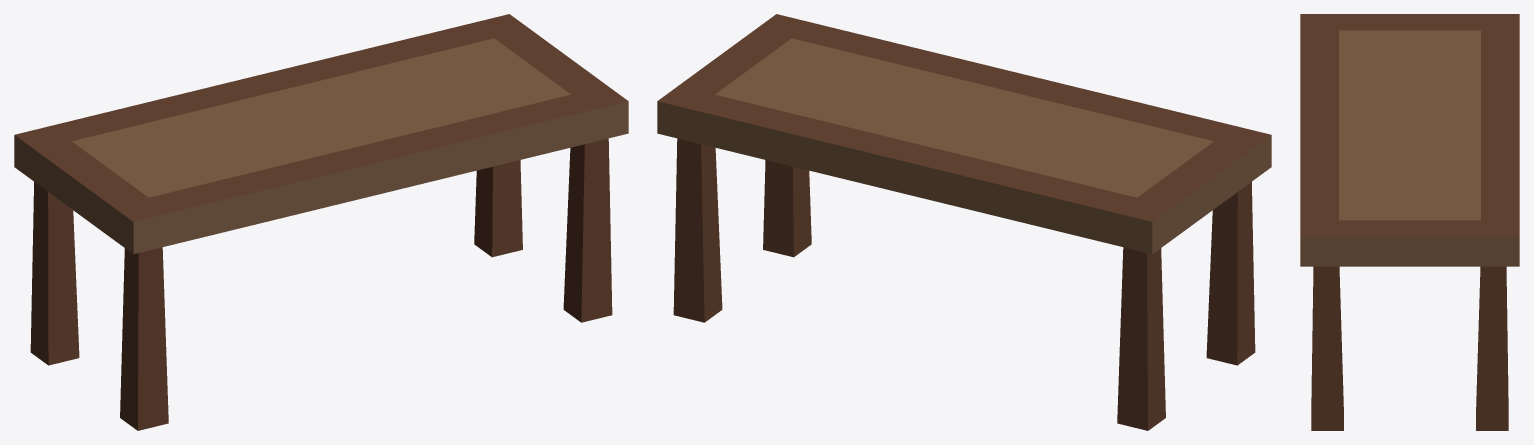
The model's file is Table.fbx.
The picture shows the model from 3 angles, left to right: view 1: azimuth 30°, elevation 25°; view 2: azimuth 150°, elevation 25°; view 3: azimuth 270°, elevation 25°; orthographic projection. The views are drawn at different scales.
Parts seen in each view (by area): view 1: Cube; view 2: Cube; view 3: Cube.
Boxes of the visible parts, x1,y1,x2,y2 form: Cube: (14,14,628,430); Cube: (657,14,1271,430); Cube: (1300,14,1519,430).
Bounding box in the file's own units: 480 × 200 × 200.
